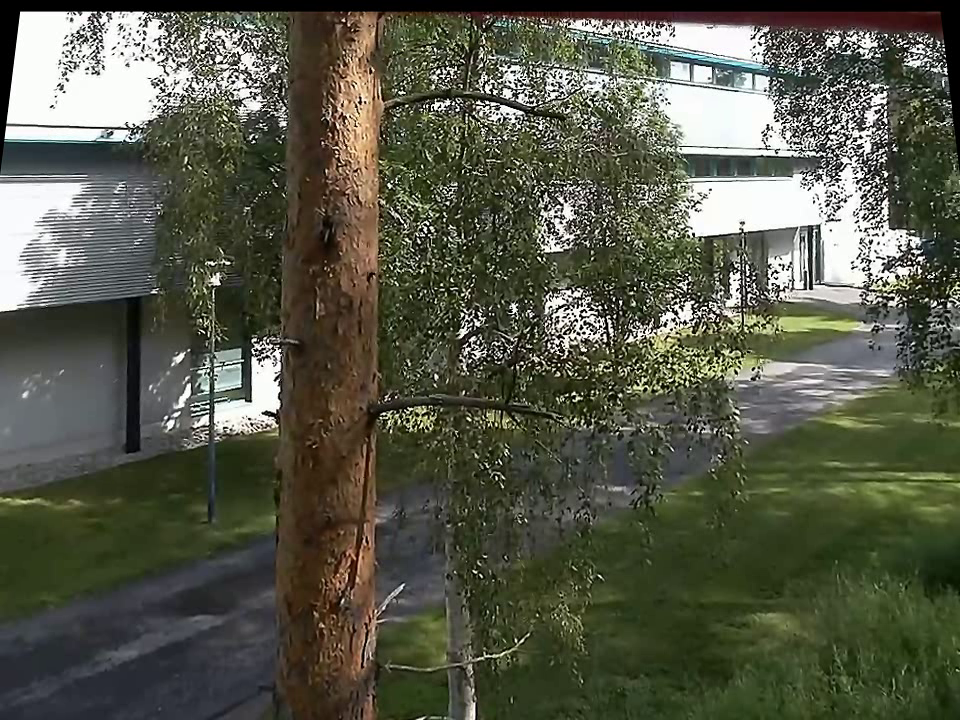branch: (383, 625, 532, 687), (381, 380, 567, 429), (381, 79, 569, 123)
trunk: (269, 11, 385, 715)
